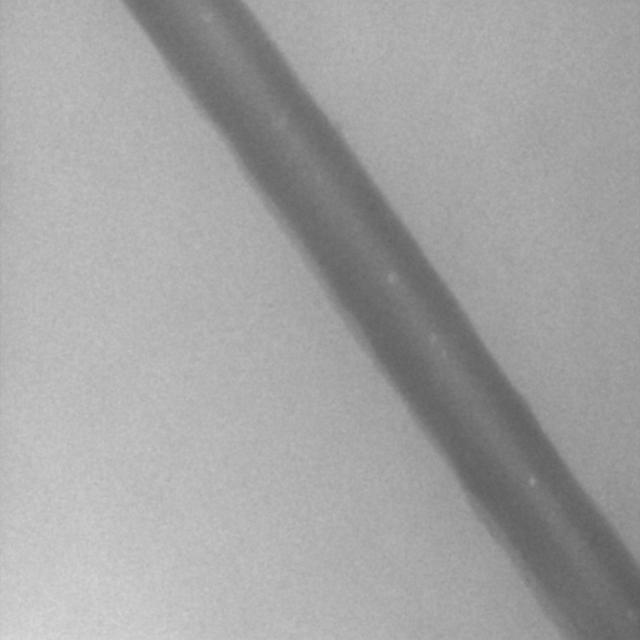air hole: (387, 270, 399, 286), (526, 474, 537, 488)
